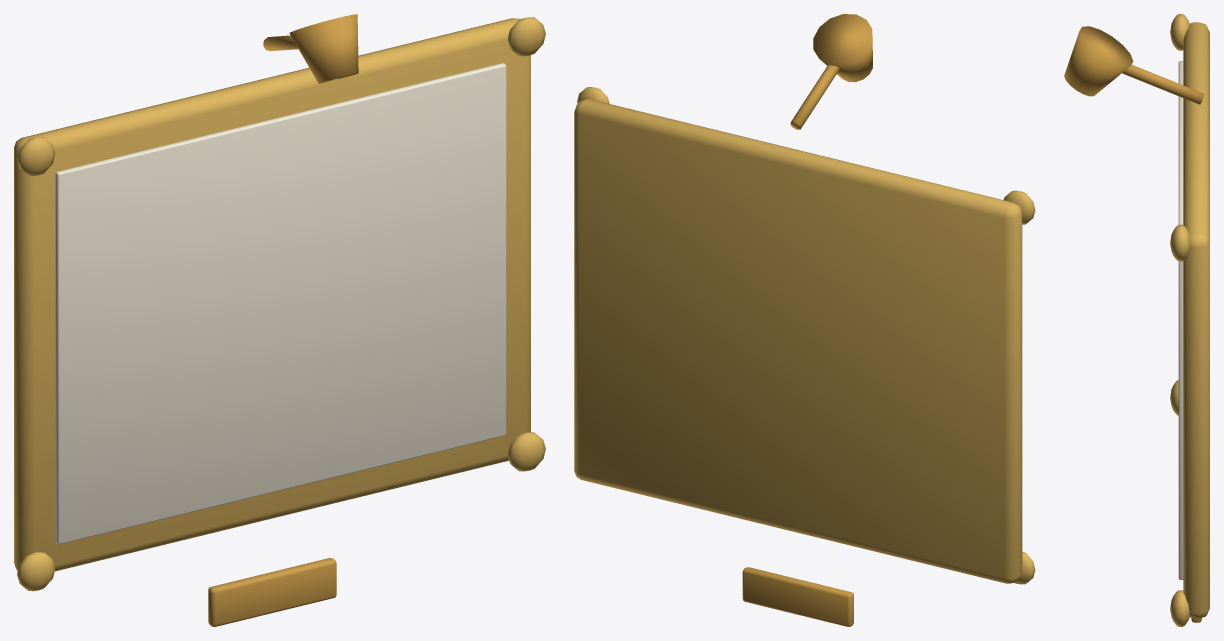
File: art-frame.glb
3 renders of one model, left to right at view 1: azimuth 30°, elevation 25°; view 2: azimuth 150°, elevation 25°; view 3: azimuth 270°, elevation 25°, orthographic. The views are drawn at different scales.
Visible parts, largest first — view 1: frame; view 2: frame; view 3: frame.
Part boxes in pixels (<box>): frame: <box>14,14,545,626</box>; frame: <box>574,14,1035,626</box>; frame: <box>1064,14,1209,626</box>.
Size of the model in its own units: 1.01 by 1.18 by 0.2747.
